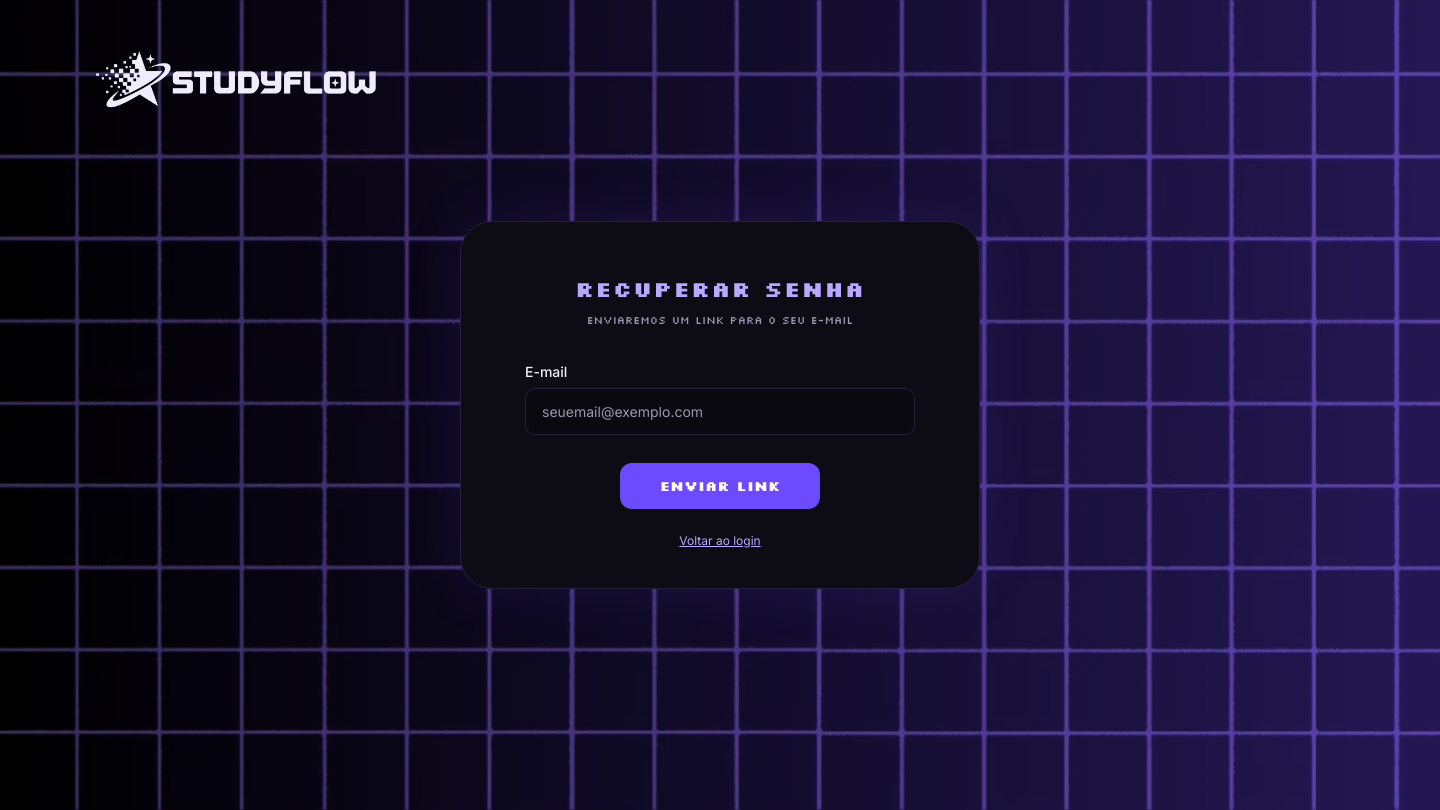
Test case: ForgotPasswordPage › envia e mostra a mensagem neutra
The image size is (1440, 810).
In the field labelled "E-mail": x=720, y=412 [525,388,915,435], type "a@b.com"
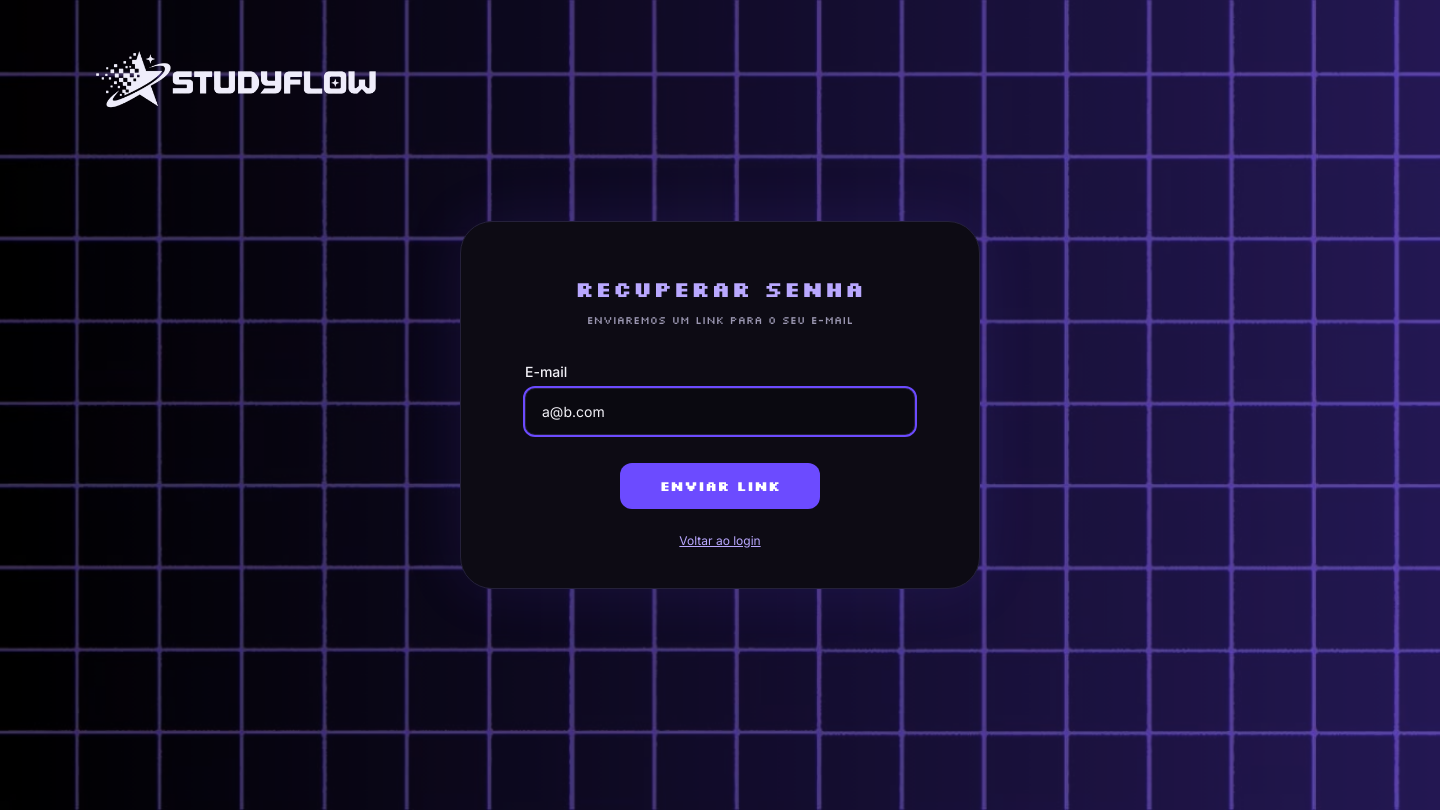
Click the button "Enviar link": x=720, y=486 [620,463,820,509]
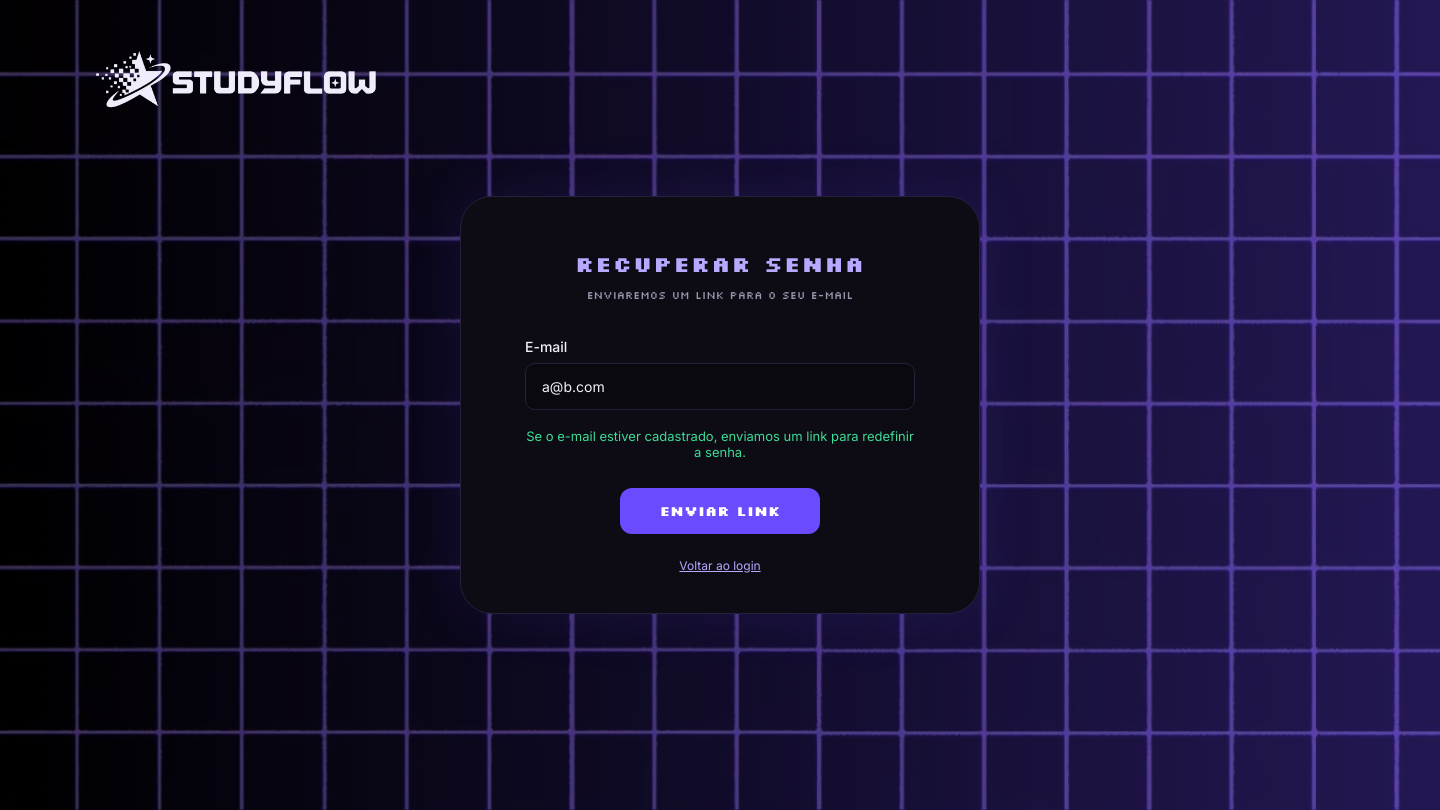
Expected: the text "Se o e-mail estiver cadastrado, enviamos um link para redefinir a senha." is shown, [525,428,915,460]
